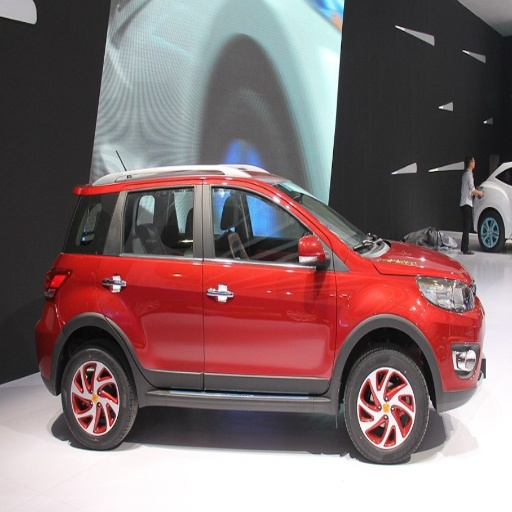back_right_door: (101, 178, 203, 389)
front_bumper: (434, 310, 479, 389)
front_right_door: (204, 178, 335, 396)
front_right_light: (418, 278, 478, 312)
